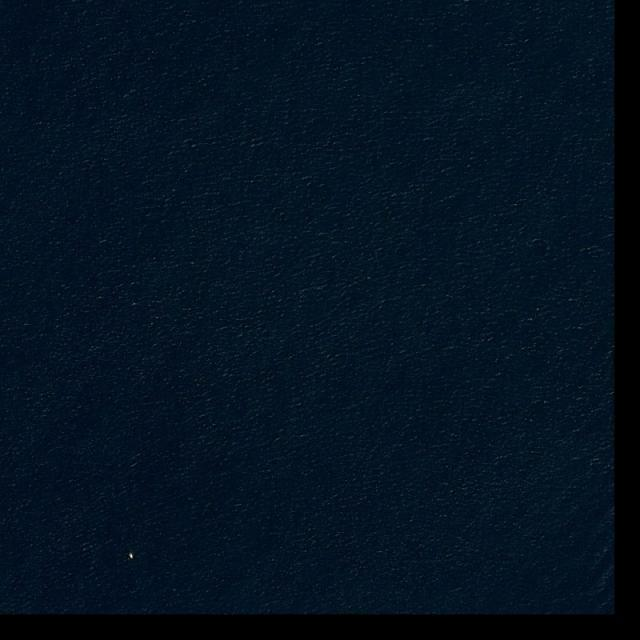ship: (129, 552, 134, 559)
